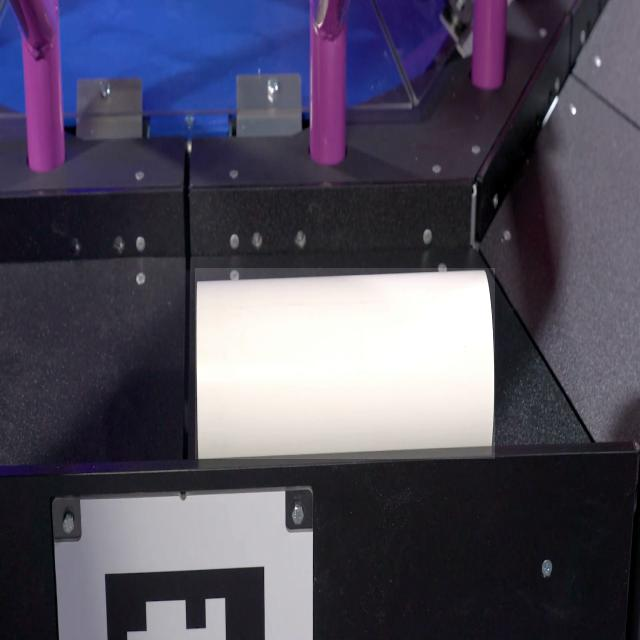Coral: (195, 268, 495, 459)
